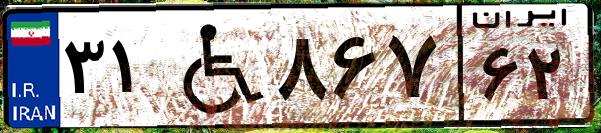1: (110, 28, 158, 98)
2: (525, 38, 570, 115)
3: (57, 26, 110, 100)
6: (330, 28, 385, 110), (475, 38, 525, 113)
7: (385, 28, 445, 110)
8: (270, 28, 330, 110)
ژ (معلولین و جانبازان): (158, 12, 270, 120)
